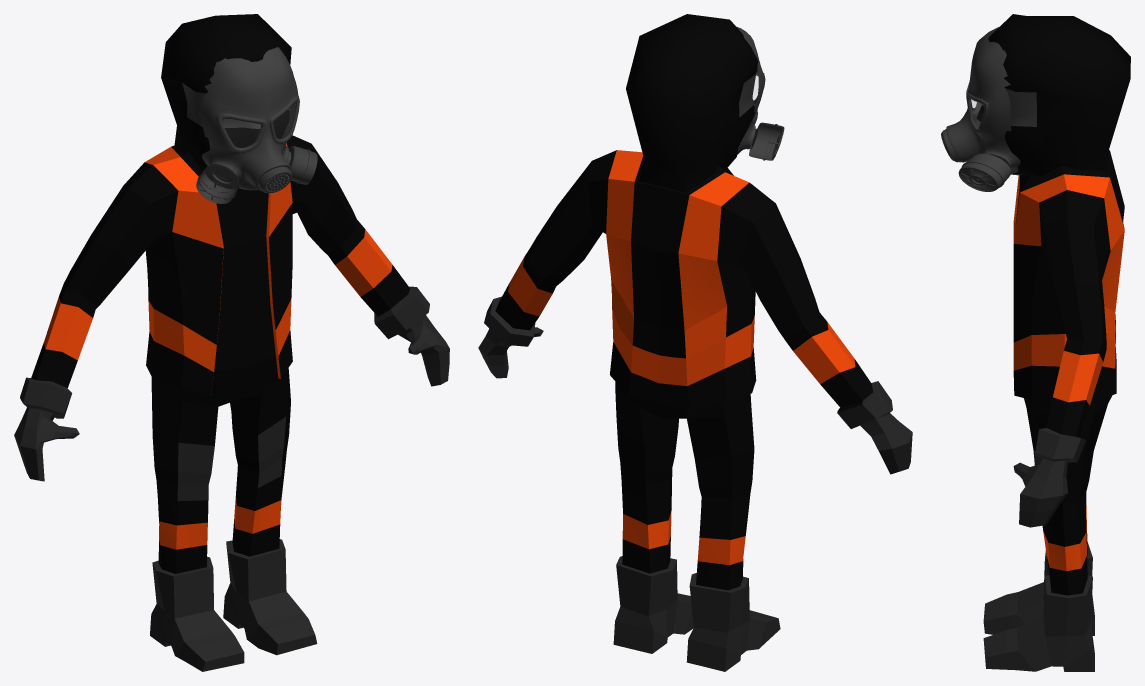
The model's file is Pyroman.fbx.
3 renders of one model, left to right at view 1: azimuth 30°, elevation 25°; view 2: azimuth 150°, elevation 25°; view 3: azimuth 270°, elevation 25°, orthographic.
Visible parts, largest first — view 1: Character, Gaz Mask, instance_0, instance_0.001; view 2: Character, instance_0, Gaz Mask; view 3: Character, instance_0, Gaz Mask, instance_0.001.
Boxes of the visible parts, left/top/right/bottom form: Character: left=14, top=135, right=449, bottom=671; Gaz Mask: left=196, top=47, right=317, bottom=203; instance_0: left=161, top=14, right=291, bottom=170; instance_0.001: left=182, top=83, right=260, bottom=128; Character: left=478, top=150, right=912, bottom=671; instance_0: left=626, top=14, right=758, bottom=192; Gaz Mask: left=736, top=26, right=784, bottom=160; Character: left=983, top=149, right=1124, bottom=671; instance_0: left=976, top=14, right=1130, bottom=175; Gaz Mask: left=941, top=27, right=1021, bottom=191; instance_0.001: left=982, top=88, right=1036, bottom=126.
Bounding box in the file's own units: 120 × 165 × 45.74.
